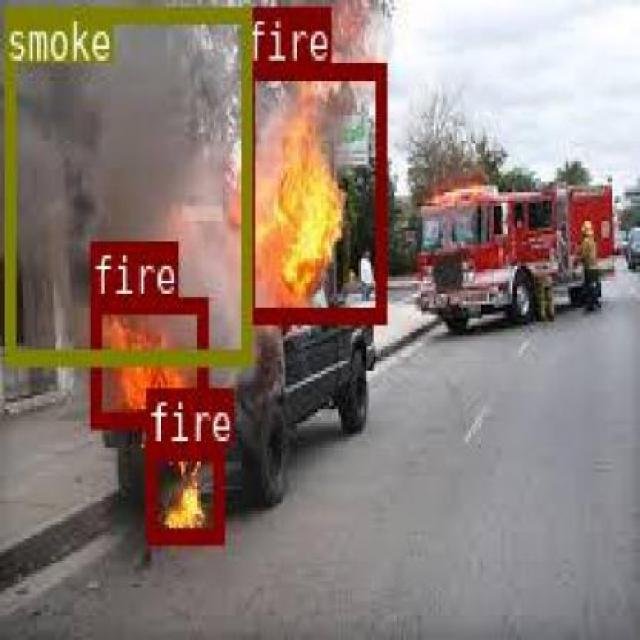Fire: (242, 60, 384, 320), (88, 294, 205, 426), (144, 440, 221, 542)
Smoke: (4, 4, 250, 363)
